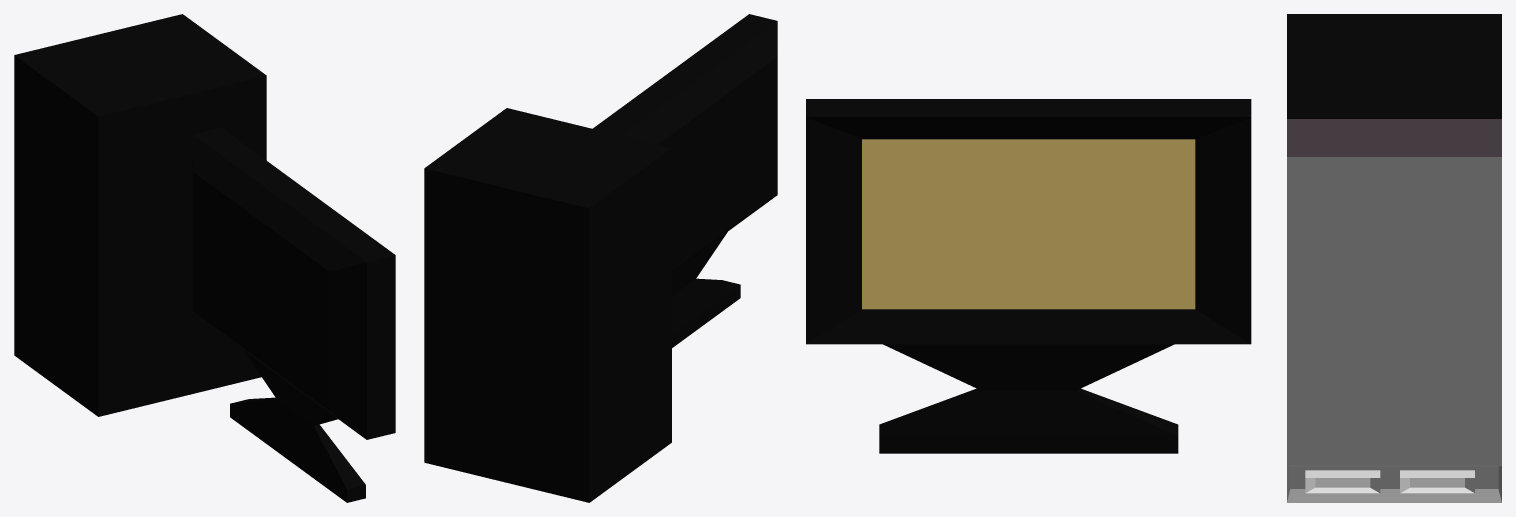
File: computer.fbx
The picture shows the model from 3 angles, left to right: view 1: azimuth 30°, elevation 25°; view 2: azimuth 150°, elevation 25°; view 3: azimuth 270°, elevation 25°; orthographic projection. The views are drawn at different scales.
Parts seen in each view (by area): view 1: Cube.001, Cube; view 2: Cube.001, Cube; view 3: Cube, Cube.001, Cube.002, Cube.003.
Boxes of the visible parts, x1,y1,x2,y2 form: Cube.001: [14, 14, 266, 416]; Cube: [192, 127, 395, 502]; Cube.001: [424, 108, 671, 502]; Cube: [593, 14, 777, 347]; Cube: [806, 99, 1251, 453]; Cube.001: [1287, 14, 1501, 502]; Cube.002: [1305, 470, 1380, 493]; Cube.003: [1400, 470, 1474, 493].
Bounding box in the file's own units: 425 × 720 × 1183.
